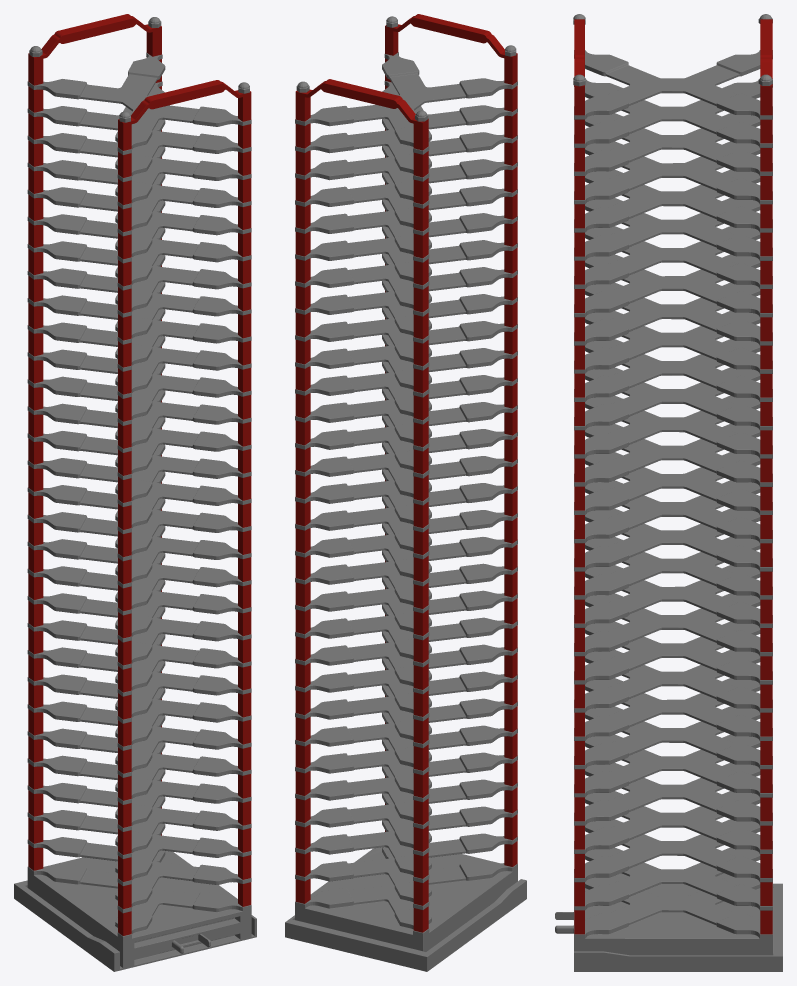
The picture shows the model from 3 angles, left to right: view 1: azimuth 30°, elevation 25°; view 2: azimuth 150°, elevation 25°; view 3: azimuth 270°, elevation 25°; orthographic projection. The views are drawn at different scales.
Parts seen in each view (by area): view 1: 112; view 2: 112; view 3: 112.
Boxes of the visible parts, box(x1,y1,x2,y2) form: 112: box(14, 14, 256, 971); 112: box(285, 14, 526, 971); 112: box(555, 14, 782, 971).
Bounding box in the file's own units: 40.63 × 234 × 53.84.
